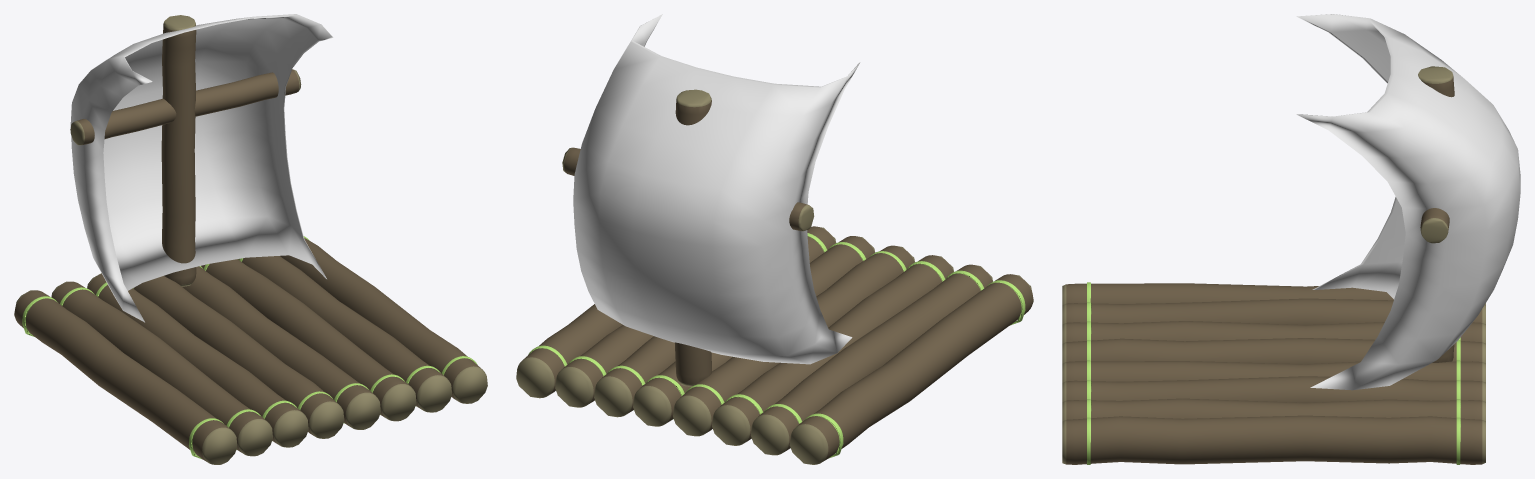
File: raft.fbx
3 views of the same model, side by side, from view 1: azimuth 30°, elevation 25°; view 2: azimuth 150°, elevation 25°; view 3: azimuth 270°, elevation 25° (orthographic). The views are drawn at different scales.
Visible parts, largest first — view 1: Cylinder.000, Cylinder.002; view 2: Cylinder.002, Cylinder.000; view 3: Cylinder.000, Cylinder.002.
Part boxes in pixels (x1=…): Cylinder.000: x1=14, y1=236, x2=487, y2=464; Cylinder.002: x1=70, y1=14, x2=333, y2=322; Cylinder.002: x1=562, y1=14, x2=860, y2=386; Cylinder.000: x1=516, y1=226, x2=1033, y2=464; Cylinder.000: x1=1062, y1=282, x2=1485, y2=464; Cylinder.002: x1=1296, y1=14, x2=1520, y2=390.
Bounding box in the file's own units: 620 × 617 × 768.
